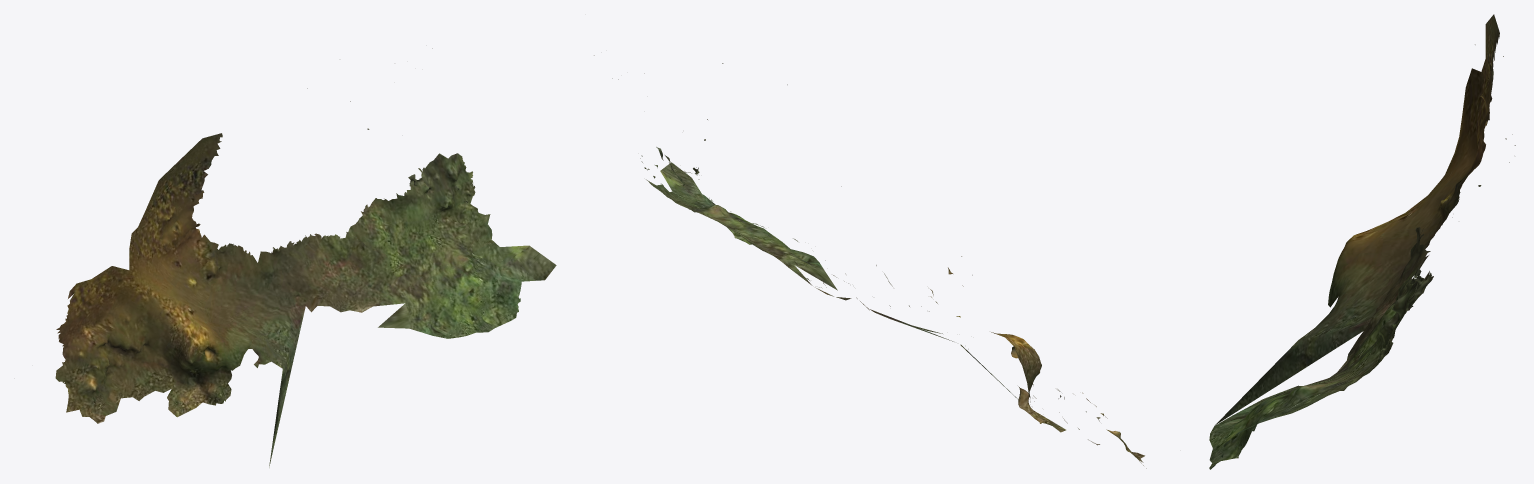
3 views of the same model, side by side, from view 1: azimuth 30°, elevation 25°; view 2: azimuth 150°, elevation 25°; view 3: azimuth 270°, elevation 25° (orthographic). The views are drawn at different scales.
Size of the model in its own units: 19.1 by 12.62 by 6.77.
1 material, 1 textured.
